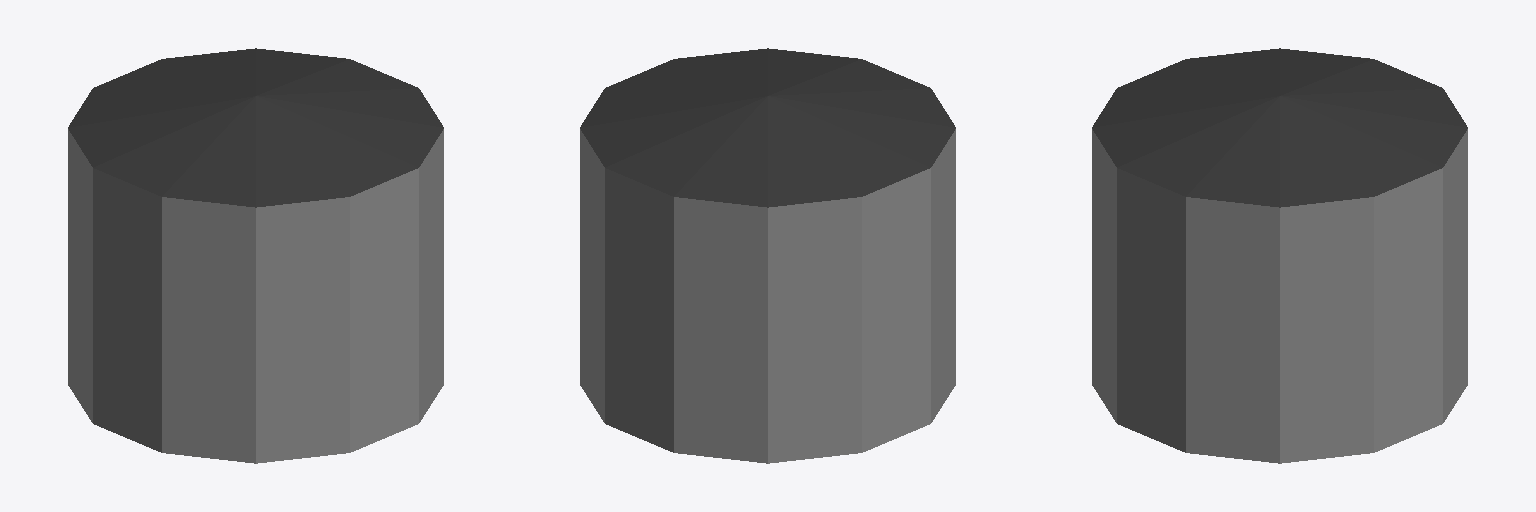
The model's file is room.obj.
The picture shows the model from 3 angles: view 1: azimuth 30°, elevation 25°; view 2: azimuth 150°, elevation 25°; view 3: azimuth 270°, elevation 25°; orthographic projection.
Visible parts, largest first — view 1: _mesh_Untitled; view 2: _mesh_Untitled; view 3: _mesh_Untitled.
Boxes of the visible parts, <box> form: _mesh_Untitled: <box>68,48,443,463</box>; _mesh_Untitled: <box>580,48,955,463</box>; _mesh_Untitled: <box>1092,48,1467,463</box>.
Bounding box in the file's own units: 16.8 × 15.74 × 16.8.